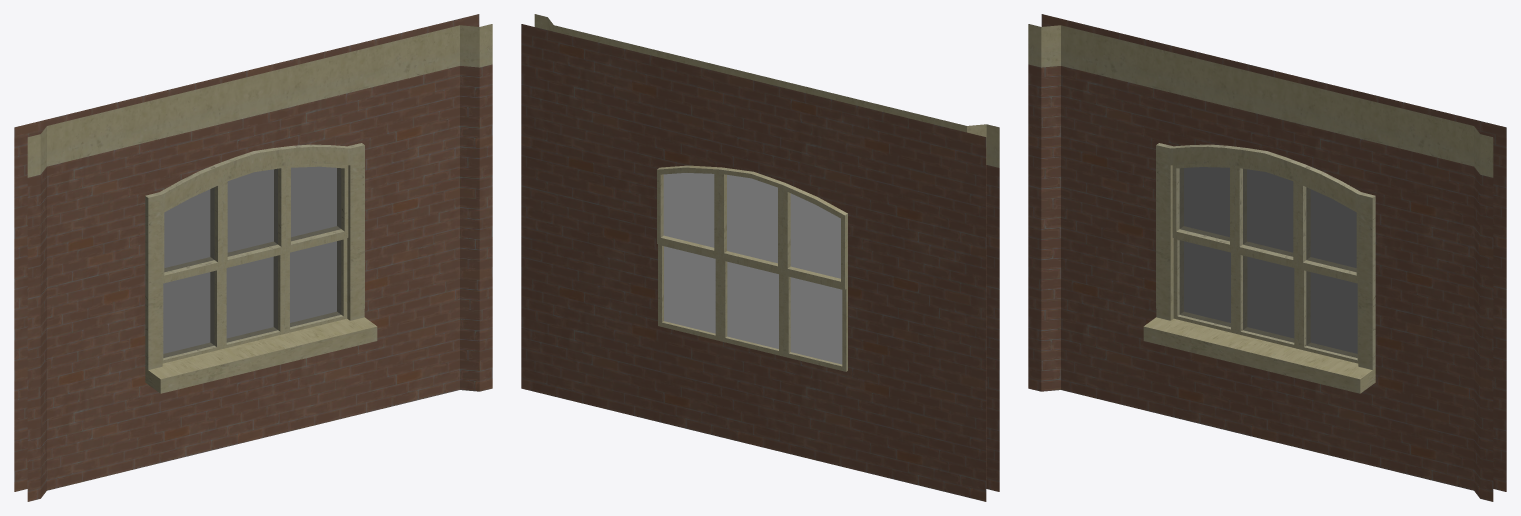
Rendered from Brick_Inset_Window_Curved.glb.
The picture shows the model from 3 angles, left to right: view 1: azimuth 30°, elevation 25°; view 2: azimuth 150°, elevation 25°; view 3: azimuth 330°, elevation 25°; orthographic projection.
Visible parts, largest first — view 1: Brick_Inset_Window_Curved; view 2: Brick_Inset_Window_Curved; view 3: Brick_Inset_Window_Curved.
Boxes of the visible parts, x1,y1,x2,y2 form: Brick_Inset_Window_Curved: (14,14,492,501); Brick_Inset_Window_Curved: (521,14,999,501); Brick_Inset_Window_Curved: (1028,14,1506,501).
Bounding box in the file's own units: 4 × 3 × 0.3738.
4 materials, 2 textured.
